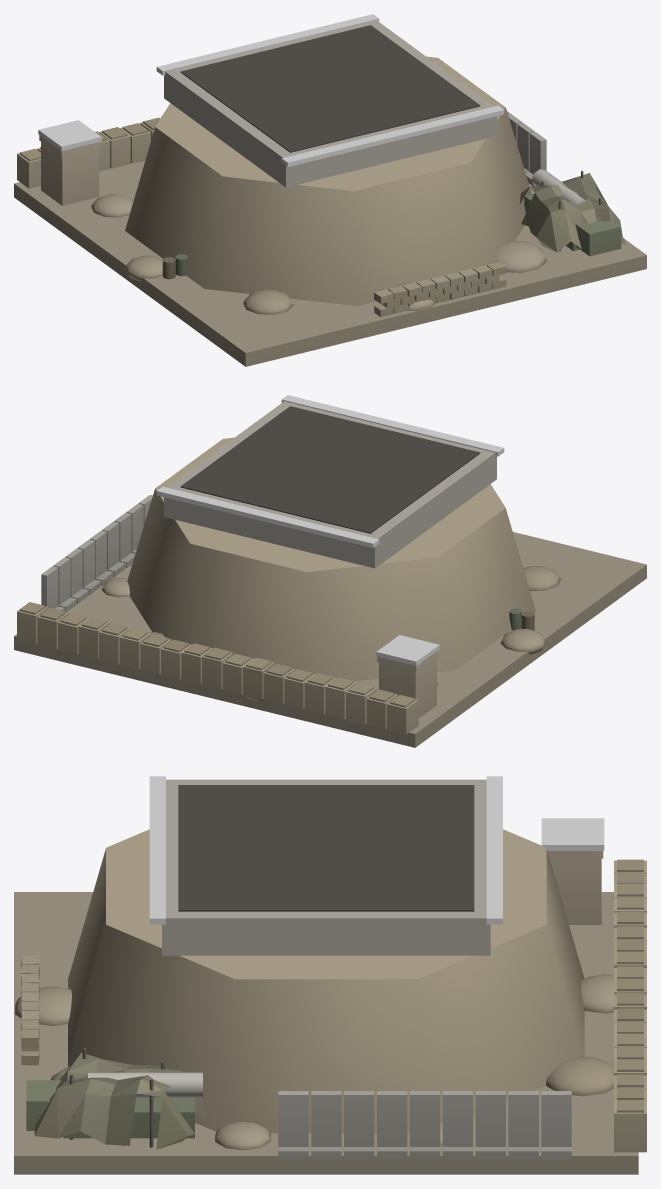
File: m_uplink_f9e402c0.glb
3 renders of one model, top to bottom at view 1: azimuth 30°, elevation 25°; view 2: azimuth 150°, elevation 25°; view 3: azimuth 270°, elevation 25°, orthographic. The views are drawn at different scales.
Visible parts, largest first — view 1: mesh; view 2: mesh; view 3: mesh.
Part boxes in pixels (<box>): mesh: <box>14,14,646,366</box>; mesh: <box>14,395,646,747</box>; mesh: <box>14,776,646,1174</box>.
Size of the model in its own units: 79.61 by 26.2 by 77.
